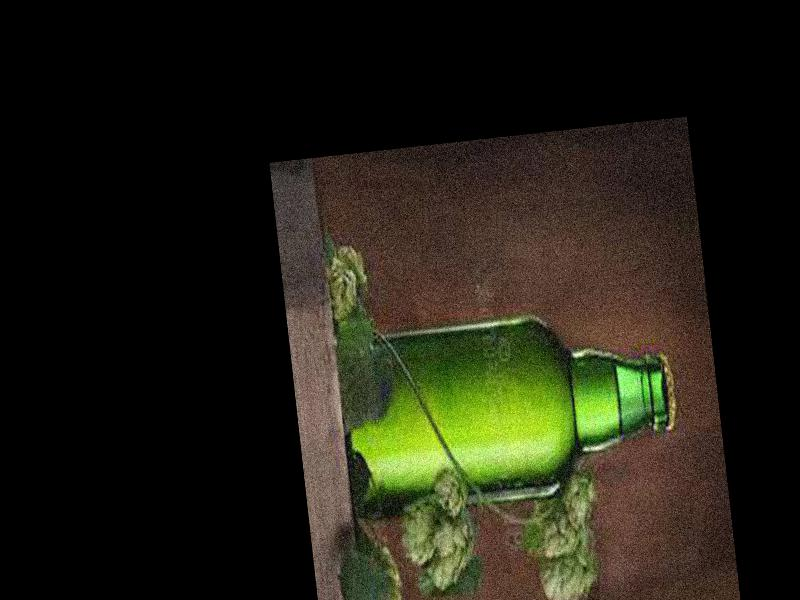Beer: (328, 300, 684, 514)
